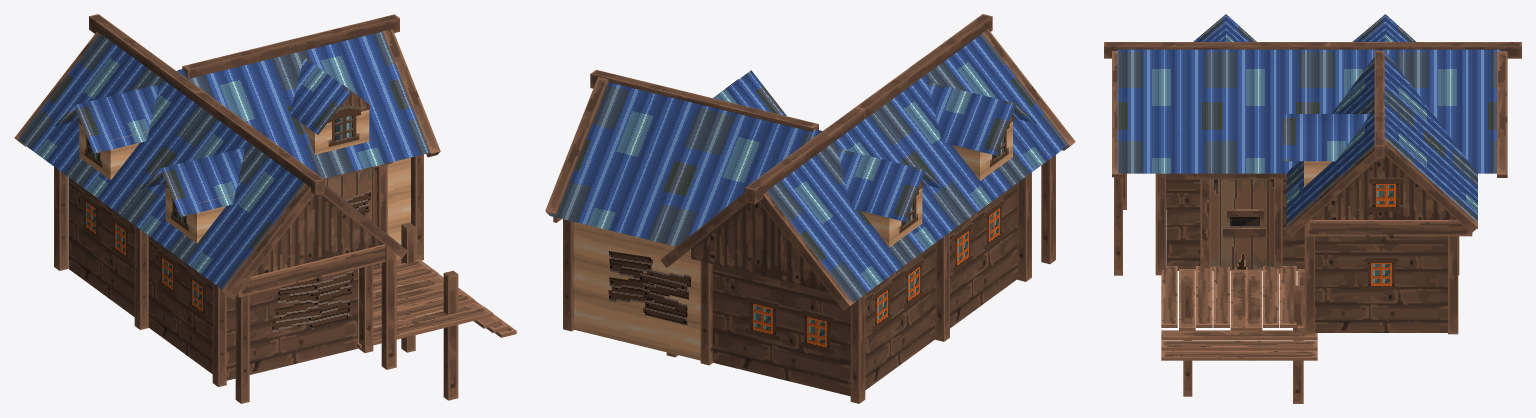
The model's file is SM_House03.FBX.
The picture shows the model from 3 angles, left to right: view 1: azimuth 30°, elevation 25°; view 2: azimuth 150°, elevation 25°; view 3: azimuth 270°, elevation 25°; orthographic projection. The views are drawn at different scales.
Visible parts, largest first — view 1: Box261; view 2: Box261; view 3: Box261.
Boxes of the visible parts, box(x1,y1,x2,y2) form: Box261: box(14, 14, 516, 403); Box261: box(545, 14, 1075, 403); Box261: box(1104, 14, 1521, 403).
Bounding box in the file's own units: 90.74 × 79.09 × 111.
